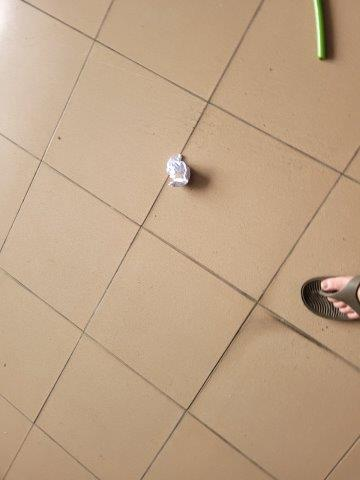kertas: (167, 154, 189, 188)
